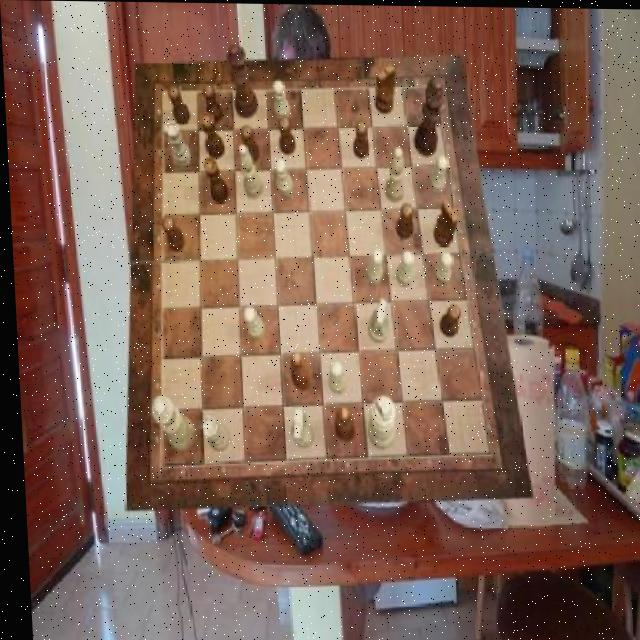bishop: (286, 351, 309, 391), (330, 405, 352, 441)
black-bishop: (410, 76, 447, 156)
black-king: (431, 199, 458, 246), (372, 64, 396, 114)
black-knight: (160, 216, 184, 252), (168, 85, 190, 124), (435, 303, 459, 338), (202, 84, 222, 123), (239, 124, 259, 162), (277, 117, 296, 156), (393, 203, 412, 238), (351, 119, 368, 158)
black-pawn: (226, 43, 258, 118)
black-queen: (202, 156, 228, 203), (200, 113, 225, 159)
black-rook: (237, 144, 261, 198), (383, 146, 405, 201)
white-bishop: (364, 393, 393, 448)
white-king: (362, 296, 385, 342), (286, 409, 310, 448)
white-knight: (426, 154, 448, 193), (272, 80, 291, 120), (391, 249, 412, 285), (430, 249, 451, 284), (274, 158, 293, 196), (240, 306, 261, 340), (364, 249, 383, 285), (324, 361, 343, 395)
white-pawn: (147, 394, 192, 449)
white-queen: (163, 120, 191, 166), (197, 416, 226, 451)
